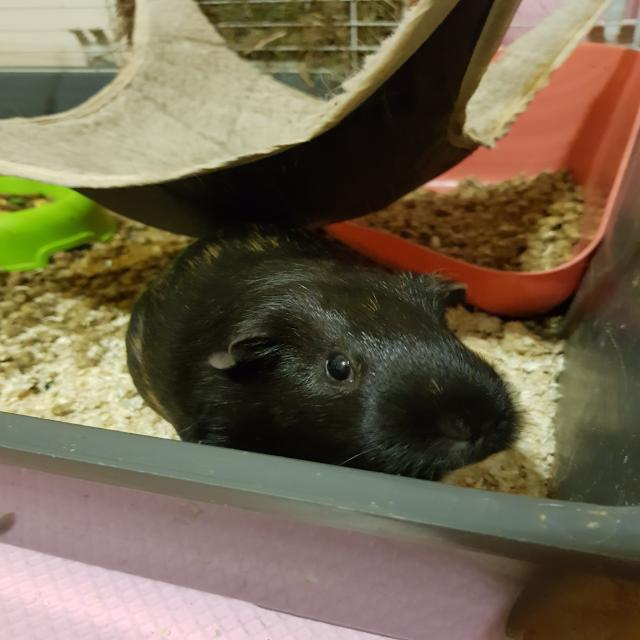guinea pig: (119, 219, 524, 482)
